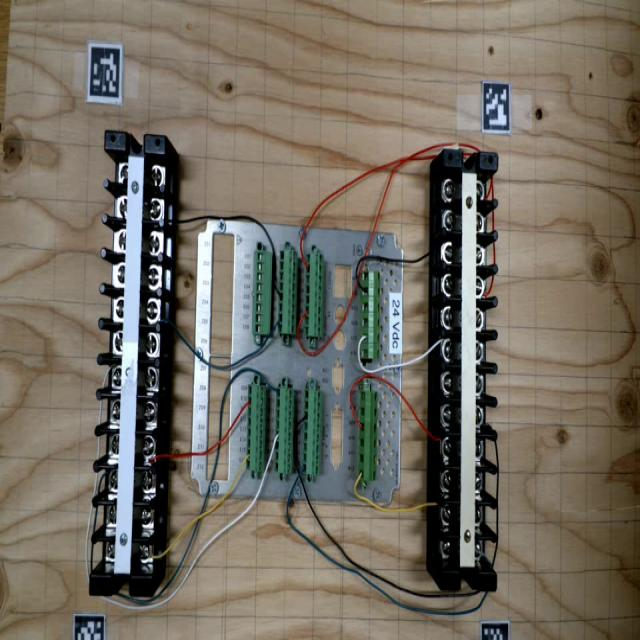Flathead_Block: (440, 150, 500, 591)
Phillips_Block: (89, 131, 168, 598)
Terminal_1: (358, 390, 378, 481), (360, 270, 380, 359)
Terminal_2: (246, 385, 266, 473), (302, 389, 322, 475), (278, 250, 298, 335), (275, 388, 294, 474), (305, 253, 324, 337)
